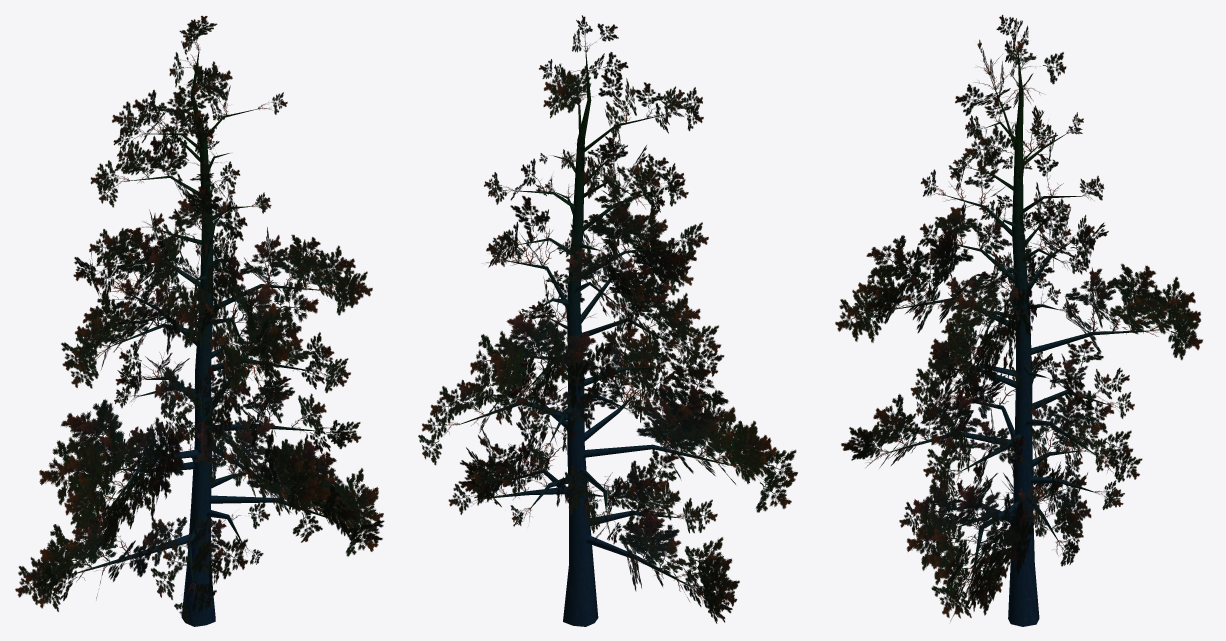
File: Scoth_Pine_D.glb
3 views of the same model, side by side, from view 1: azimuth 30°, elevation 25°; view 2: azimuth 150°, elevation 25°; view 3: azimuth 270°, elevation 25° (orthographic).
Visible parts, largest first — view 1: E_LOD0; view 2: E_LOD0; view 3: E_LOD0.
Part boxes in pixels (box(x1,y1,x2,y2)): E_LOD0: box(15, 16, 384, 626); E_LOD0: box(418, 15, 797, 626); E_LOD0: box(835, 15, 1203, 626).
Size of what is drawn, in the model's own units: 6.38 by 11.3 by 6.5.
Materials: 2 (2 with a texture image).
